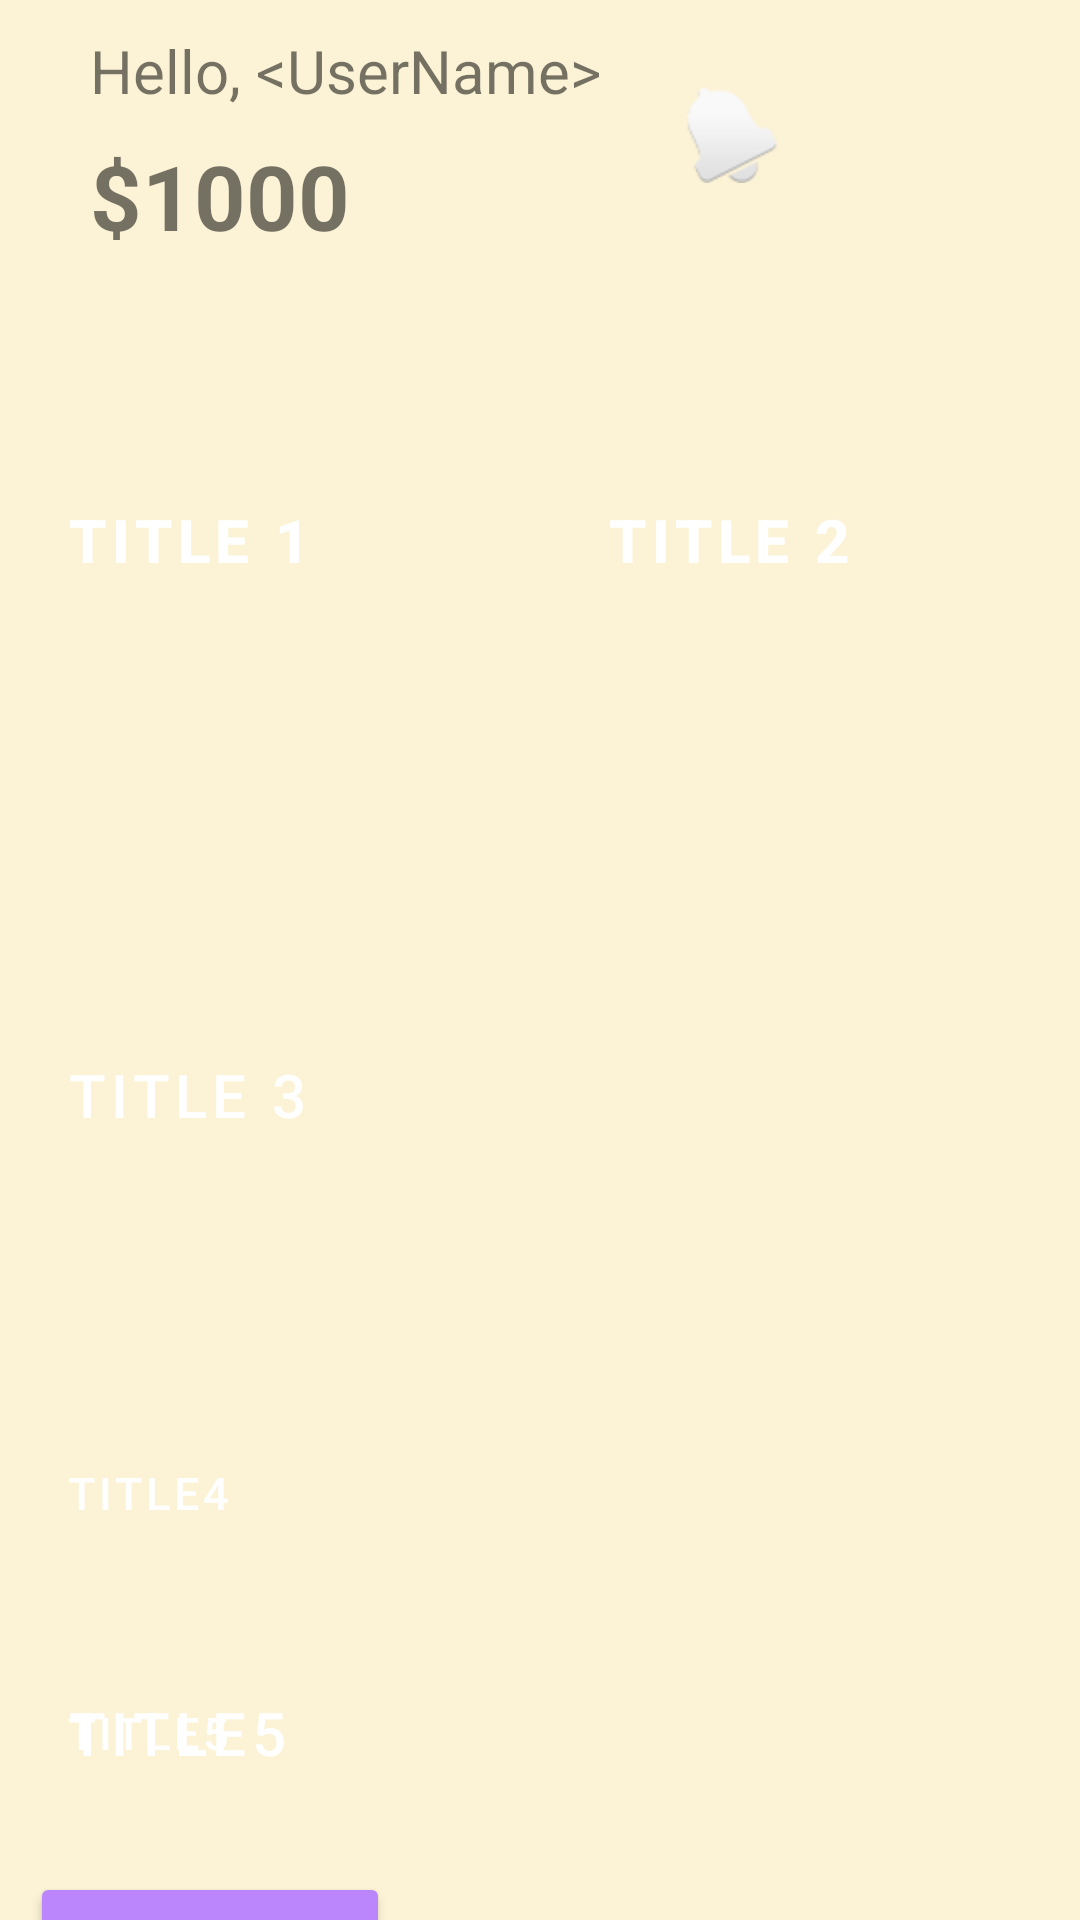

Where icons sit on this 1080px×1920px app screen, as (x1, y1, x2, y2):
popup reminder: (689, 88, 776, 183)
